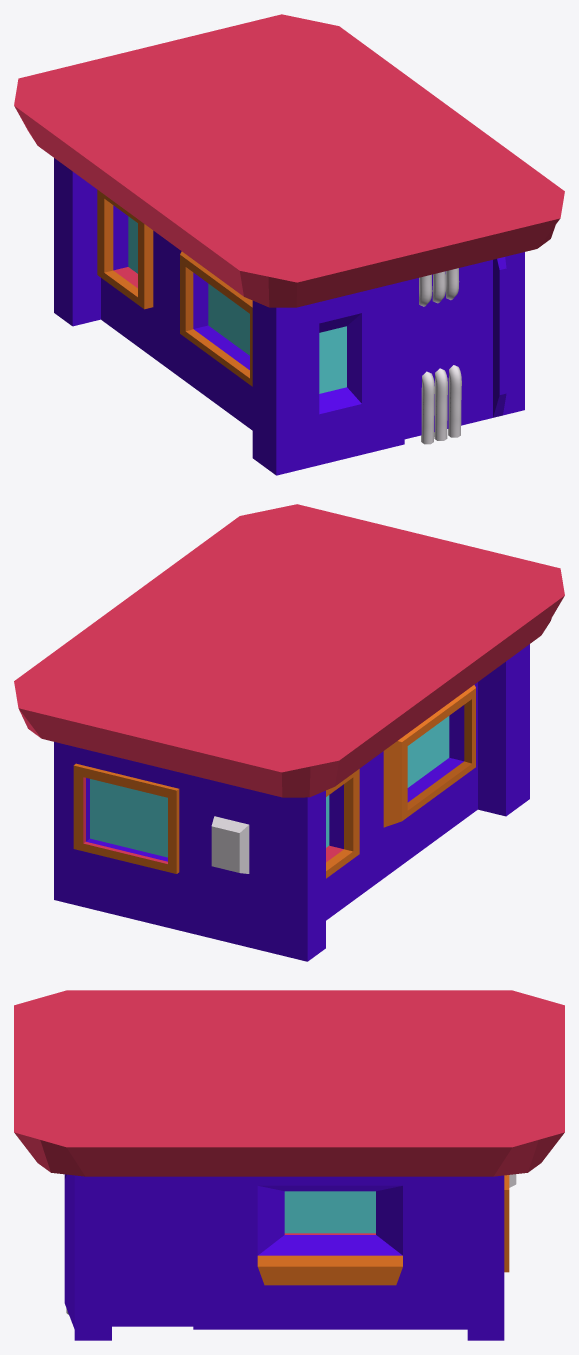
Rendered from FBX_LC_mHouse3.fbx.
3 renders of one model, top to bottom at view 1: azimuth 30°, elevation 25°; view 2: azimuth 150°, elevation 25°; view 3: azimuth 270°, elevation 25°, orthographic.
Parts seen in each view (by area): view 1: Cube.022; view 2: Cube.022; view 3: Cube.022.
Part boxes in pixels (bbox=[...]): Cube.022: bbox=[14, 14, 564, 475]; Cube.022: bbox=[14, 504, 564, 961]; Cube.022: bbox=[14, 990, 564, 1340].
Bounding box in the file's own units: 1549 × 1002 × 2300.
